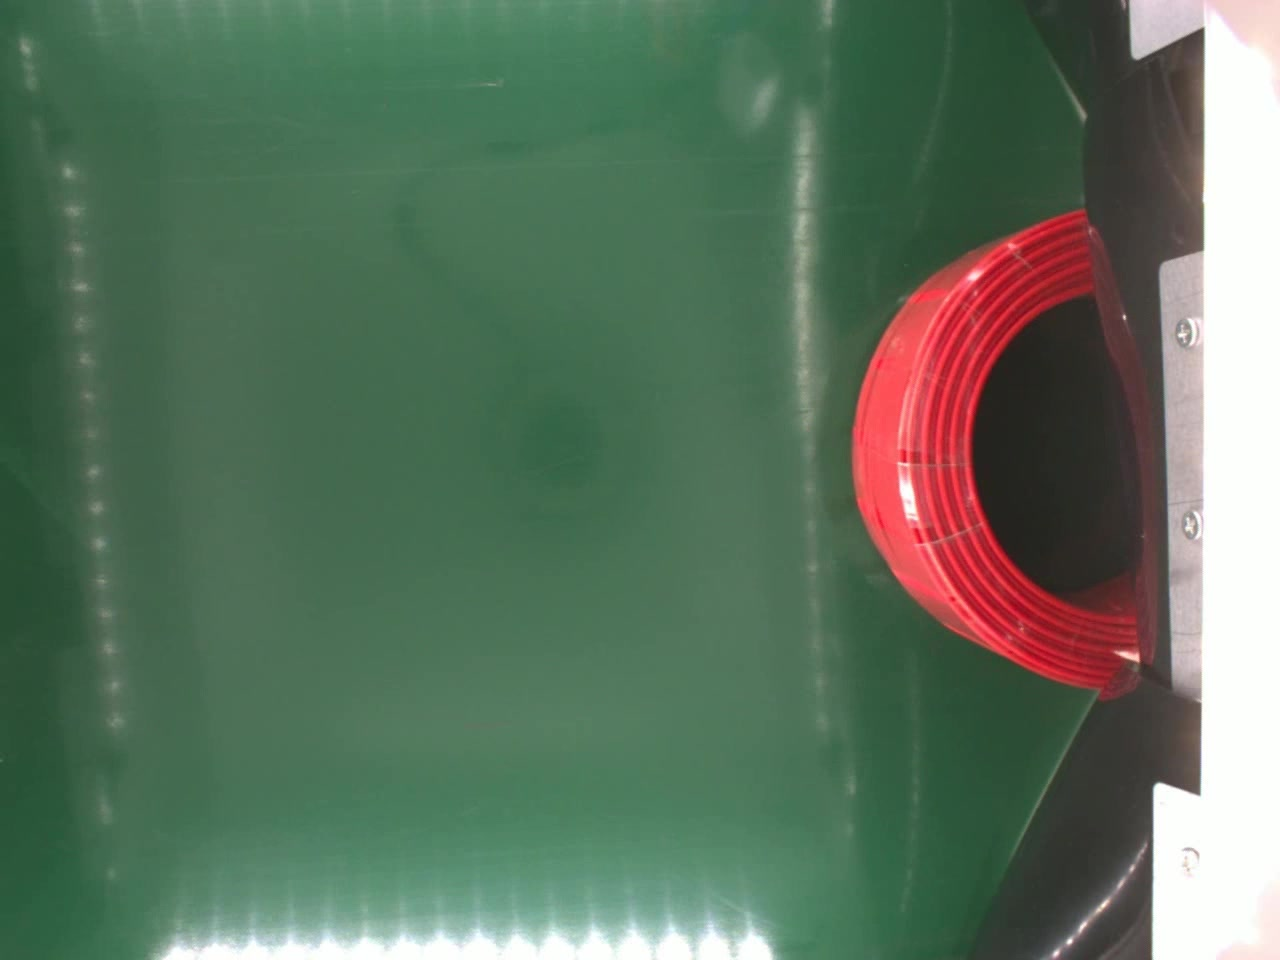red: (855, 205, 1143, 691)
